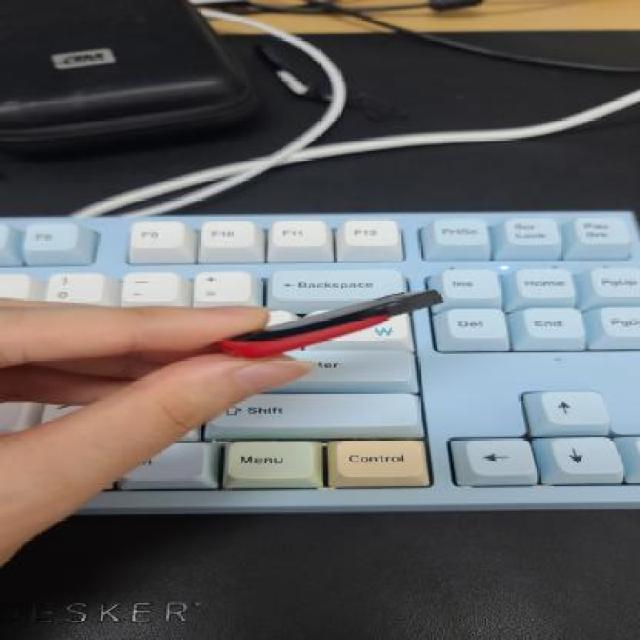Flashdisk: (214, 288, 446, 359)
